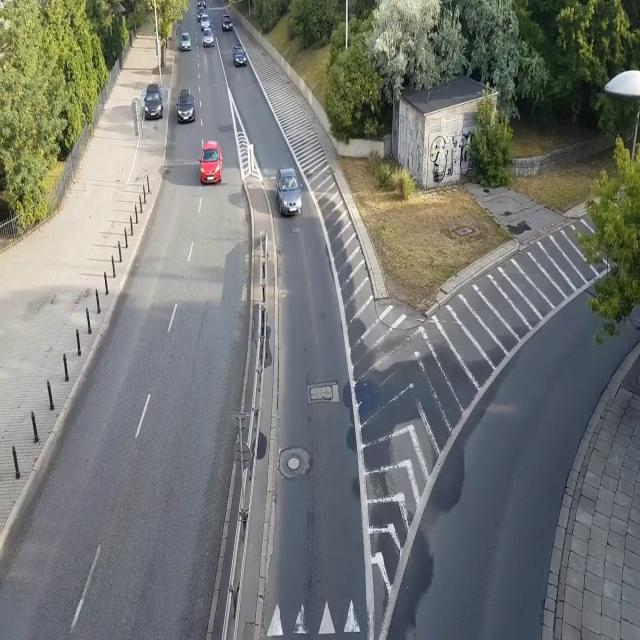car: (275, 166, 303, 218), (199, 140, 223, 187), (143, 84, 164, 119), (176, 88, 196, 124), (232, 44, 247, 70), (202, 28, 215, 48), (181, 31, 192, 52), (221, 14, 232, 33), (197, 6, 207, 22), (201, 14, 210, 31), (196, 0, 206, 8)
